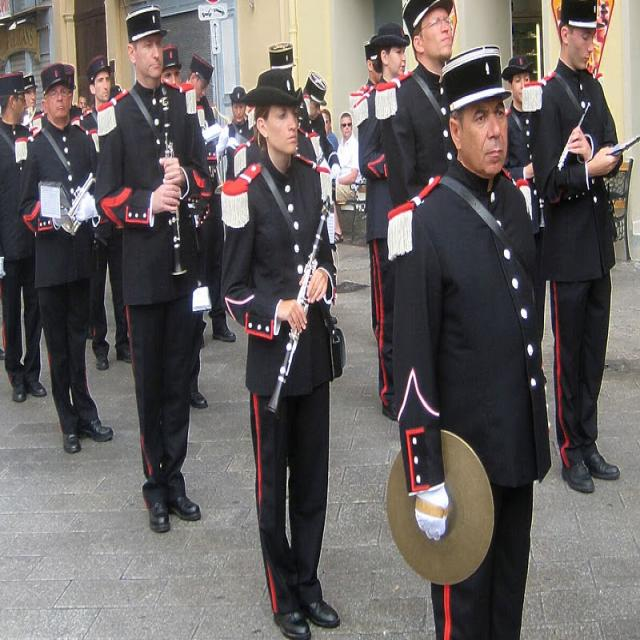clarinet: (261, 195, 333, 426), (157, 80, 190, 280), (540, 106, 597, 200)
